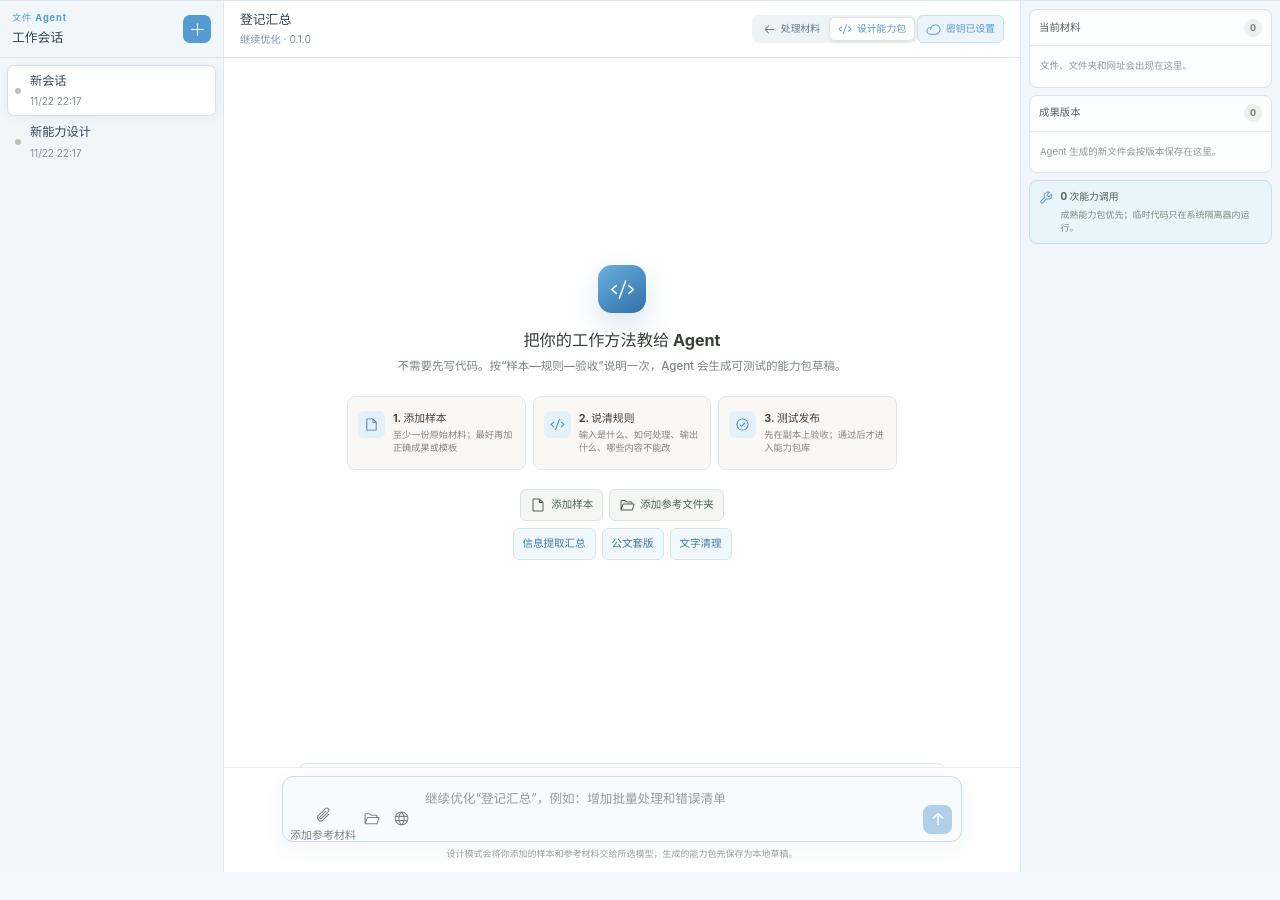
Test: keeps an existing draft, its parameters and its passing test when greeted
The image size is (1280, 900).
expect the button named "新建设计会话" is enabled: met, box [183,15,211,43]
Step 1. Type "您好！" into the text box → (670, 809), box [423,784,916,834]
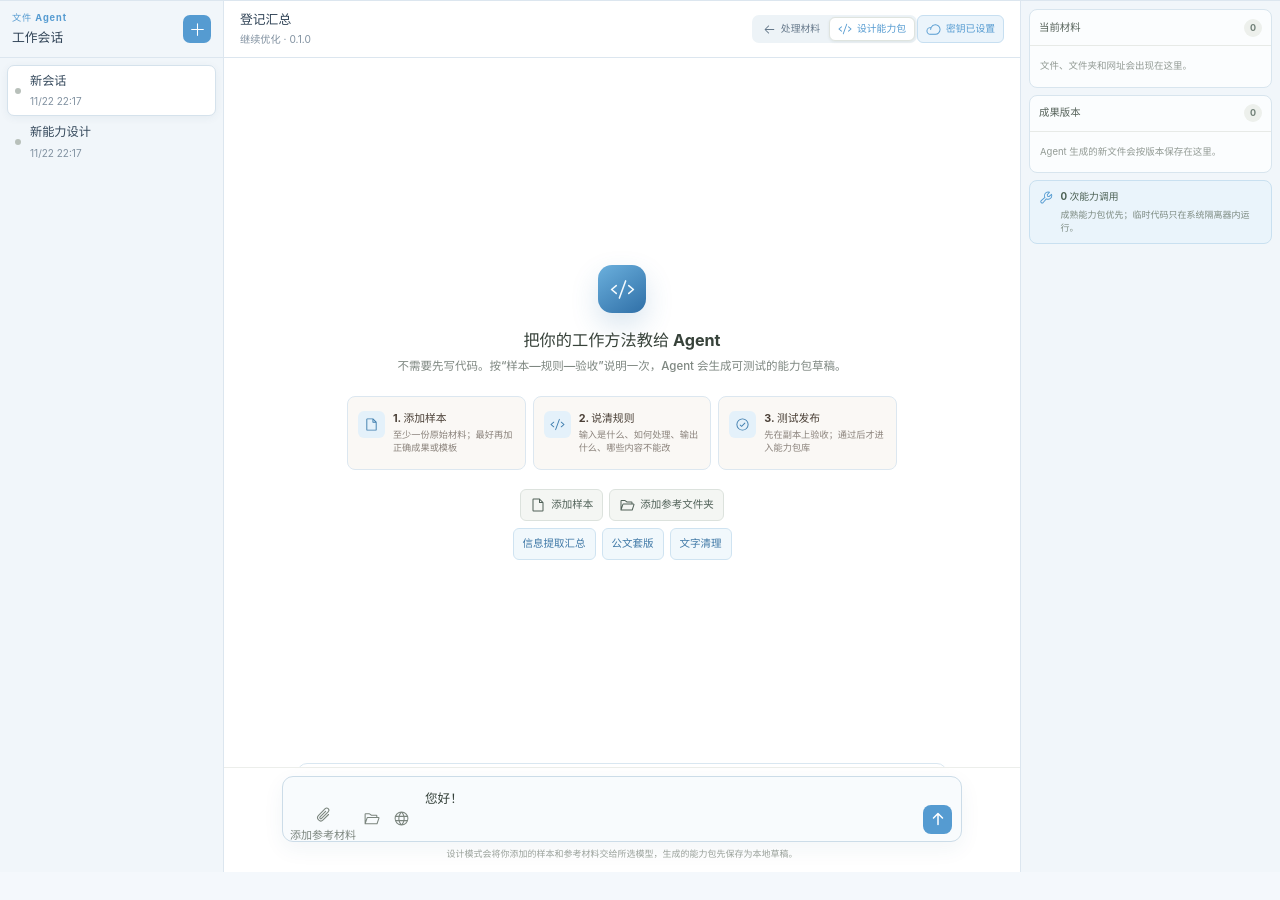
expect the button named "发送消息" is enabled: met
Step 2. Click the button named "发送消息" → (938, 819), box [923,804,952,834]
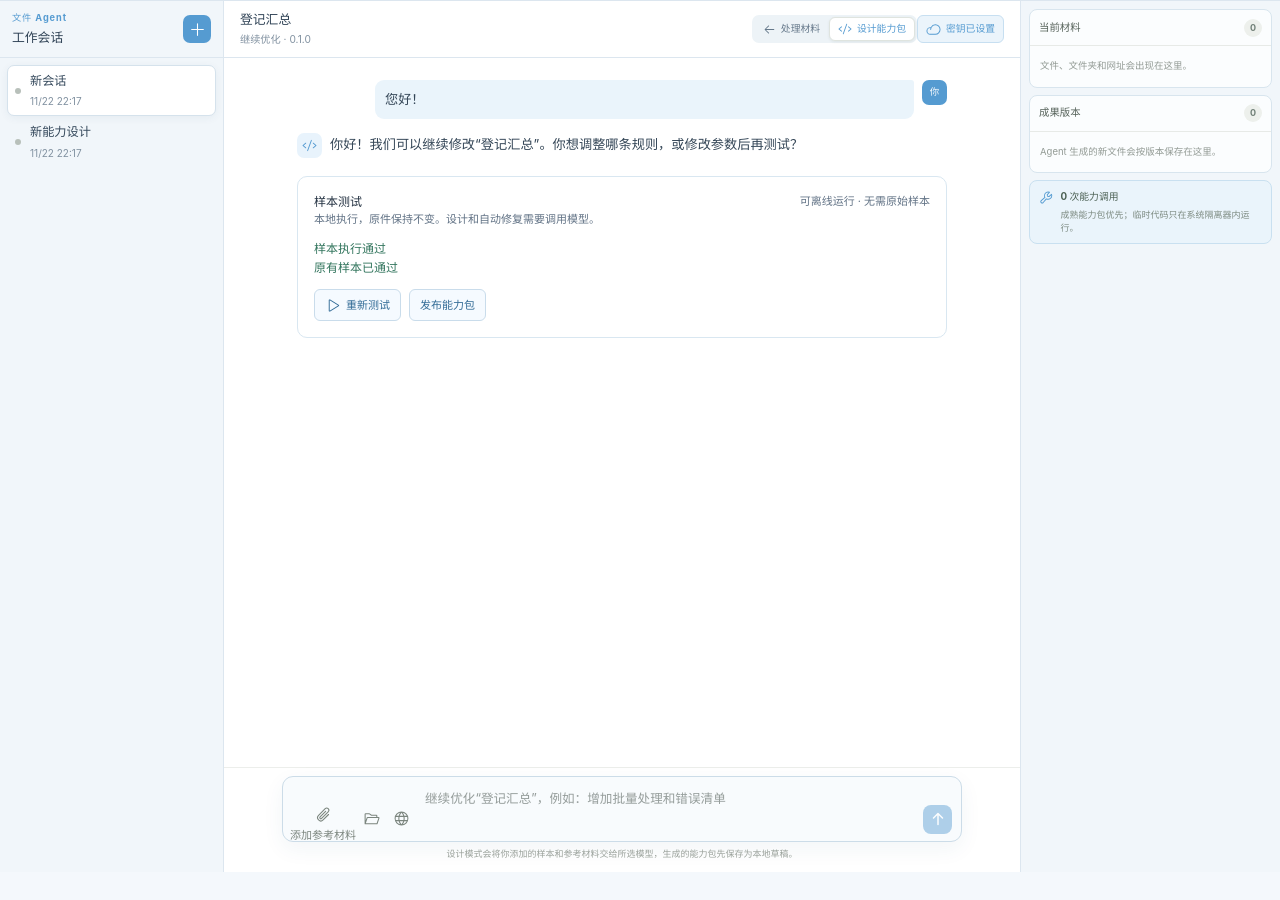
expect the text "您好！" is shown: met, box [385,91,425,107]
expect the text "原有样本已通过" is shown: met, box [314,260,398,275]
expect the button "发布能力包" is enabled: met, box [409,290,486,322]
